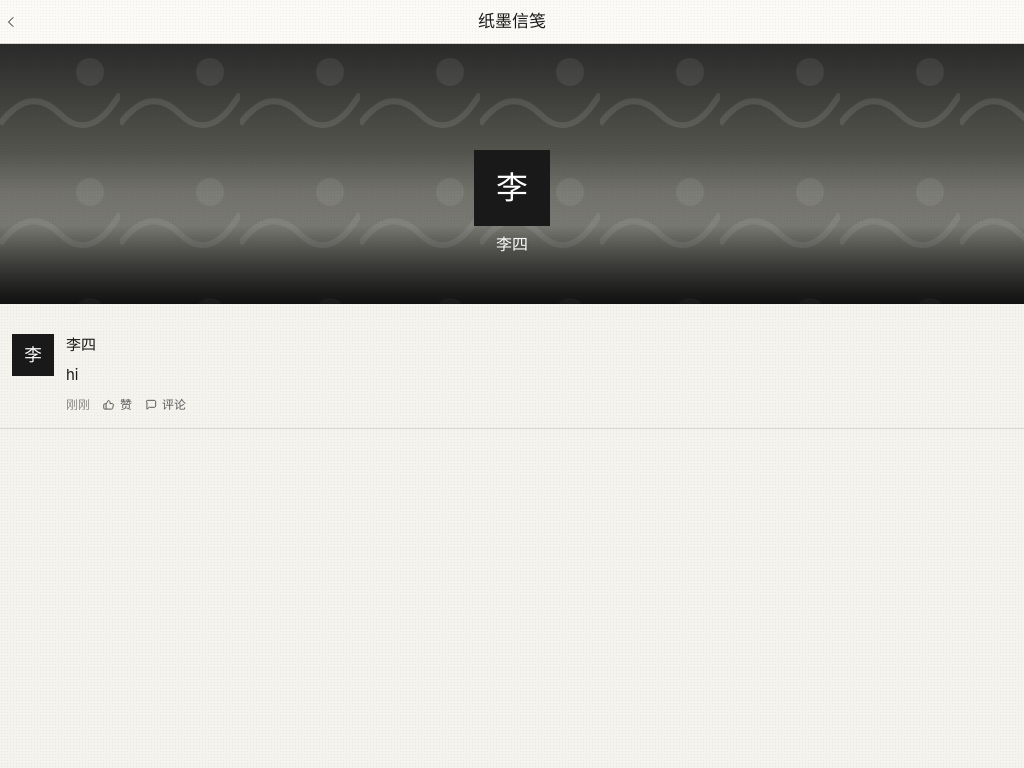
Test case: FriendMoments 好友朋友圈流 › 点赞为纯前端状态切换
Step 1. Click the button with test id "fm-like-btn" → x=117, y=405, box [102,396,132,414]
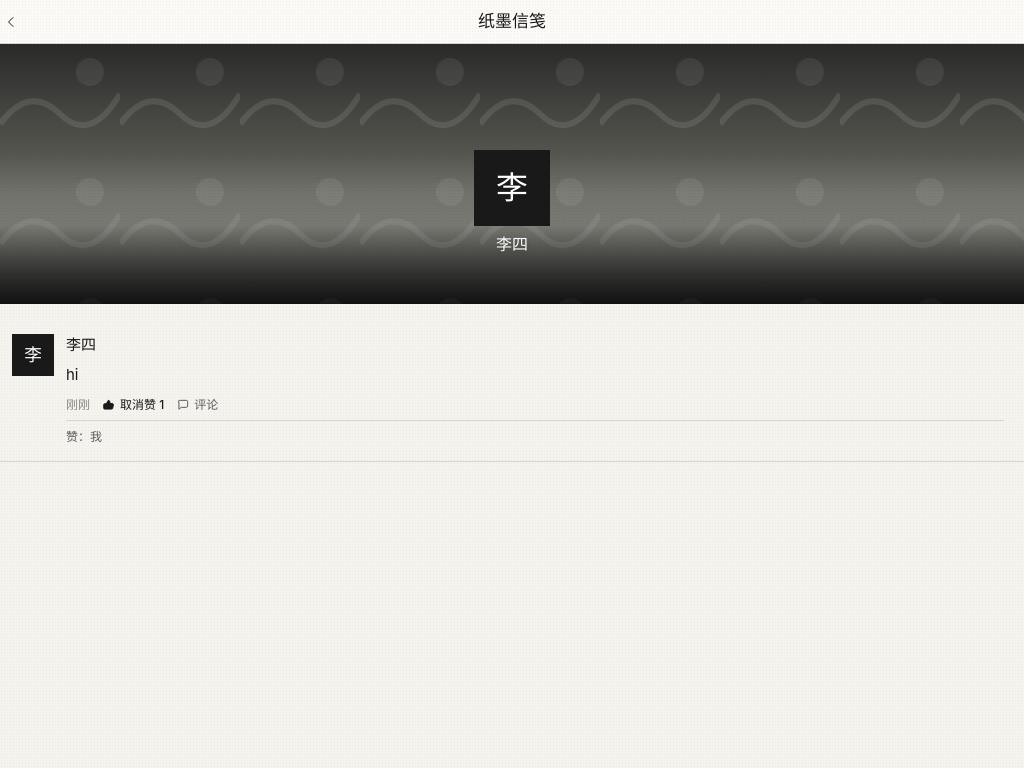
Result: the text "取消赞 1" is shown at [120,396,164,414]
Result: the text "赞：我" is shown at [66,420,1004,447]
Step 2. Click the button with test id "fm-like-btn" → x=133, y=405, box [102,396,164,414]
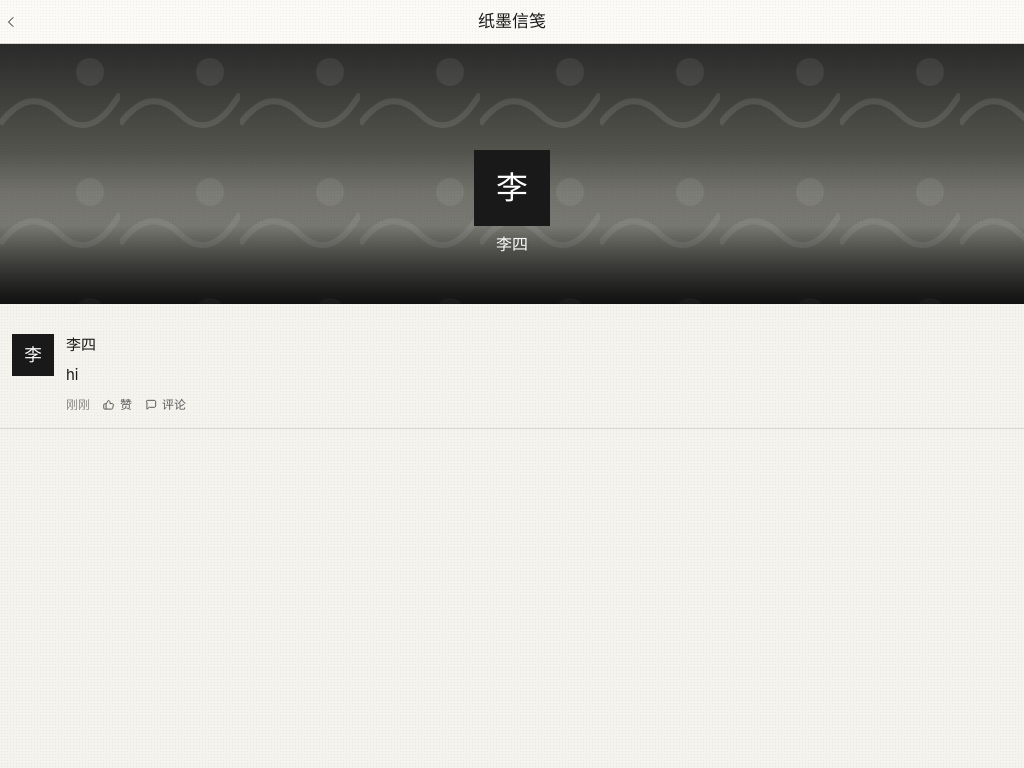
Expected: the text "赞" is shown, [120,396,132,414]
Result: the text "赞：我" is gone
